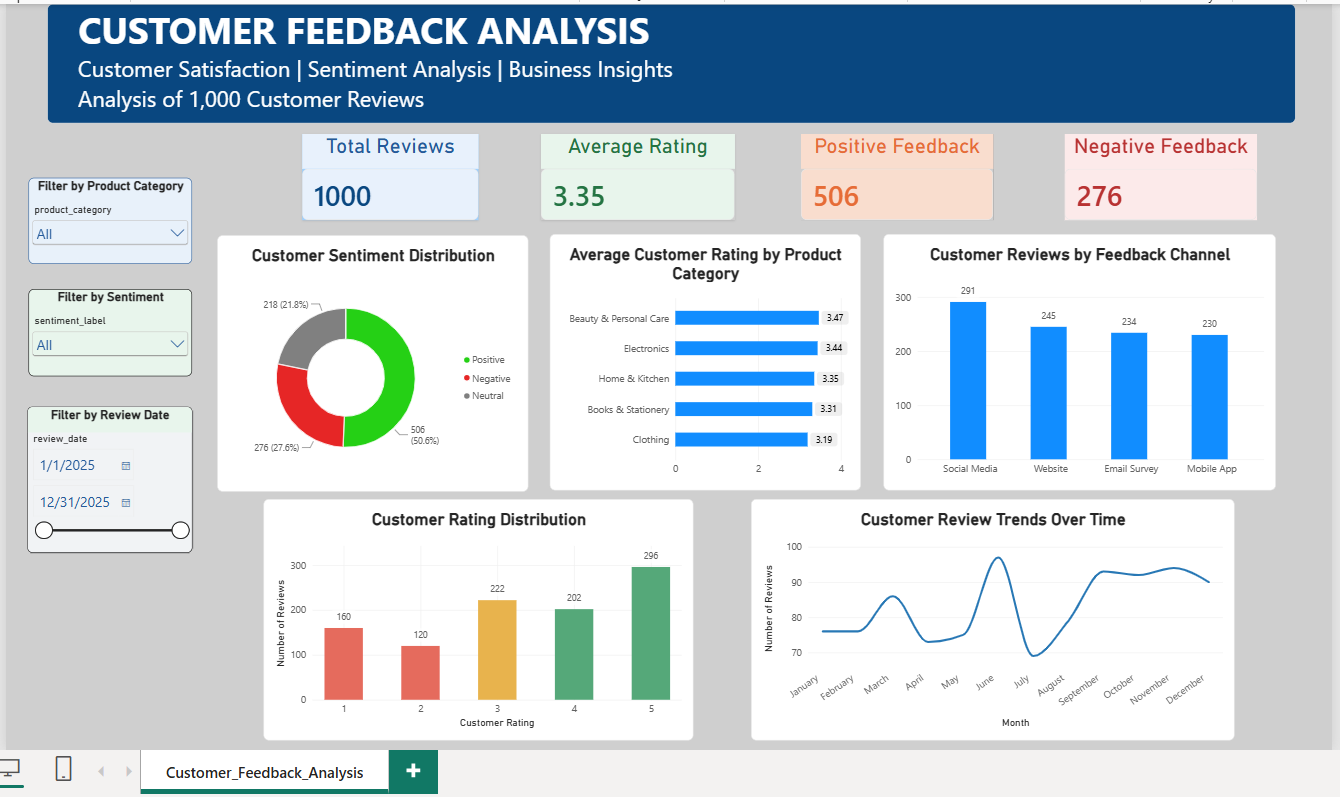

Layout of this report page (visuals, bound fields, positions):
{"tool":"powerbi","page":{"name":"Customer_Feedback_Analysis","canvas":[1920,1080],"ordinal":0},"visuals":[{"type":"textbox","box":[59.7,0,1807.2,172.9],"z":0},{"type":"cardVisual","title":"Total Reviews","fields":{"Data":["processed_dataset.Total Reviews"]},"box":[428.9,188.2,255.2,124.9],"z":1000},{"type":"cardVisual","title":"Average Rating","fields":{"Data":["processed_dataset.Average Rating"]},"box":[774.5,188.2,280.5,124.9],"z":2000},{"type":"cardVisual","title":"  Positive Feedback","fields":{"Data":["processed_dataset.Positive Feedback"]},"box":[1150.9,188.2,278.7,124.9],"z":3000},{"type":"cardVisual","title":"Negative Feedback","fields":{"Data":["processed_dataset.Negative Feedback"]},"box":[1532.8,188.2,278.7,124.9],"z":4000},{"type":"donutChart","title":"Customer Sentiment Distribution","fields":{"Category":["processed_dataset.sentiment_label"],"Y":["CountNonNull(processed_dataset.review_id)"]},"box":[305.8,334.8,450.6,371],"z":5000},{"type":"clusteredBarChart","title":"Average Customer Rating by Product Category","fields":{"Category":["processed_dataset.product_category"],"Y":["Avg(processed_dataset.rating)"]},"box":[787.2,333,450.6,371],"z":6000},{"type":"lineClusteredColumnComboChart","title":"Customer Reviews by Feedback Channel","fields":{"Category":["processed_dataset.feedback_channel"],"Y":["CountNonNull(processed_dataset.review_id)"]},"box":[1270.4,333,568.2,371],"z":7000},{"type":"lineClusteredColumnComboChart","title":"Customer Rating Distribution","fields":{"Category":["processed_dataset.rating"],"Y":["CountNonNull(processed_dataset.review_id)"]},"box":[372.8,716.6,622.5,349.3],"z":8000},{"type":"lineChart","title":"Customer Review Trends Over Time","fields":{"Category":["processed_dataset.review_date.Variation.Date Hierarchy.Month"],"Y":["CountNonNull(processed_dataset.review_id)"]},"box":[1078.6,716.6,700.3,349.3],"z":9000},{"type":"slicer","title":"Filter by Product Category","fields":{"Values":["processed_dataset.product_category"]},"box":[32.6,251.5,237.1,124.9],"z":10000},{"type":"slicer","title":"Filter by Sentiment","fields":{"Values":["processed_dataset.sentiment_label"]},"box":[32.6,412.6,237.1,126.7],"z":11000},{"type":"slicer","title":"Filter by Review Date","fields":{"Values":["processed_dataset.review_date"]},"box":[30.8,582.7,238.9,211.7],"z":12000}]}

Visuals, with their boxes on the page's 1920x1080 design canvas (x1, y1, x2, y2). These are canvas units, not pixel positions in the 1340x797 screenshot, which may show the page scaled, cropped or inside an application window:
textbox: BBox(60, 0, 1867, 173)
"Total Reviews" cardVisual: BBox(429, 188, 684, 313)
"Average Rating" cardVisual: BBox(774, 188, 1055, 313)
"  Positive Feedback" cardVisual: BBox(1151, 188, 1430, 313)
"Negative Feedback" cardVisual: BBox(1533, 188, 1812, 313)
"Customer Sentiment Distribution" donutChart: BBox(306, 335, 756, 706)
"Average Customer Rating by Product Category" clusteredBarChart: BBox(787, 333, 1238, 704)
"Customer Reviews by Feedback Channel" lineClusteredColumnComboChart: BBox(1270, 333, 1839, 704)
"Customer Rating Distribution" lineClusteredColumnComboChart: BBox(373, 717, 995, 1066)
"Customer Review Trends Over Time" lineChart: BBox(1079, 717, 1779, 1066)
"Filter by Product Category" slicer: BBox(33, 252, 270, 376)
"Filter by Sentiment" slicer: BBox(33, 413, 270, 539)
"Filter by Review Date" slicer: BBox(31, 583, 270, 794)
